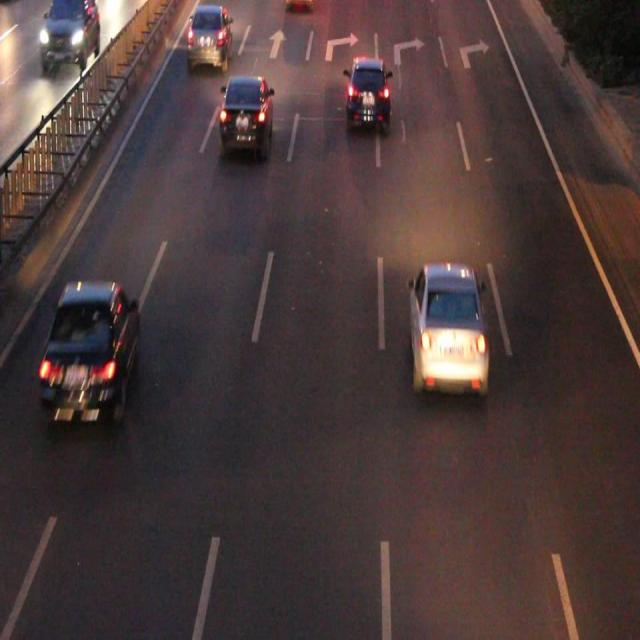car: (44, 282, 139, 416), (409, 266, 486, 391), (220, 78, 271, 150), (346, 58, 390, 127), (188, 1, 232, 65)
truck: (286, 1, 311, 10)
